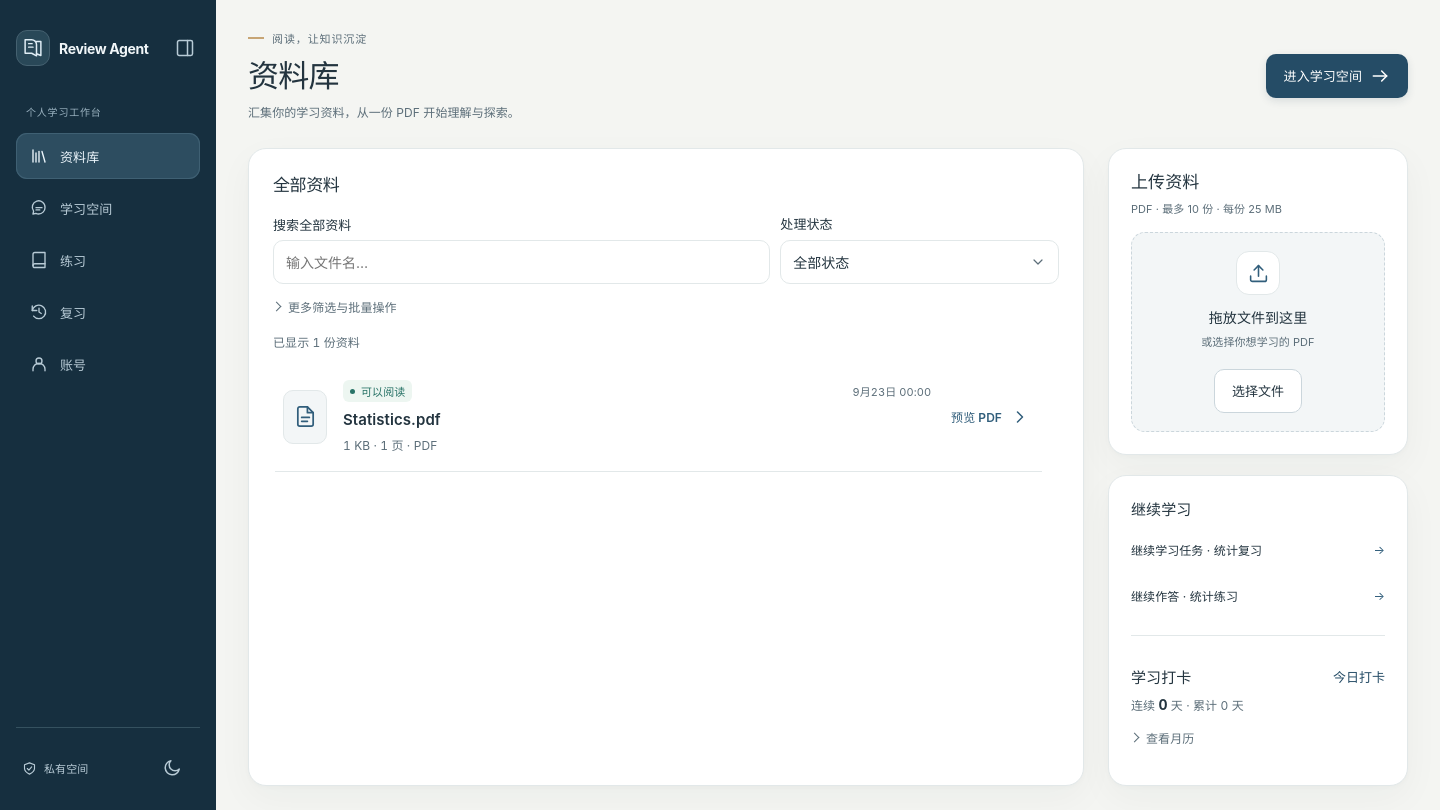
Test case: continue links use server identities and batch collection failure retains selected documents for retry
The image size is (1440, 810).
Click the heading "更多筛选与批量操作". click: (342, 308)
box: [288,300,397,315]
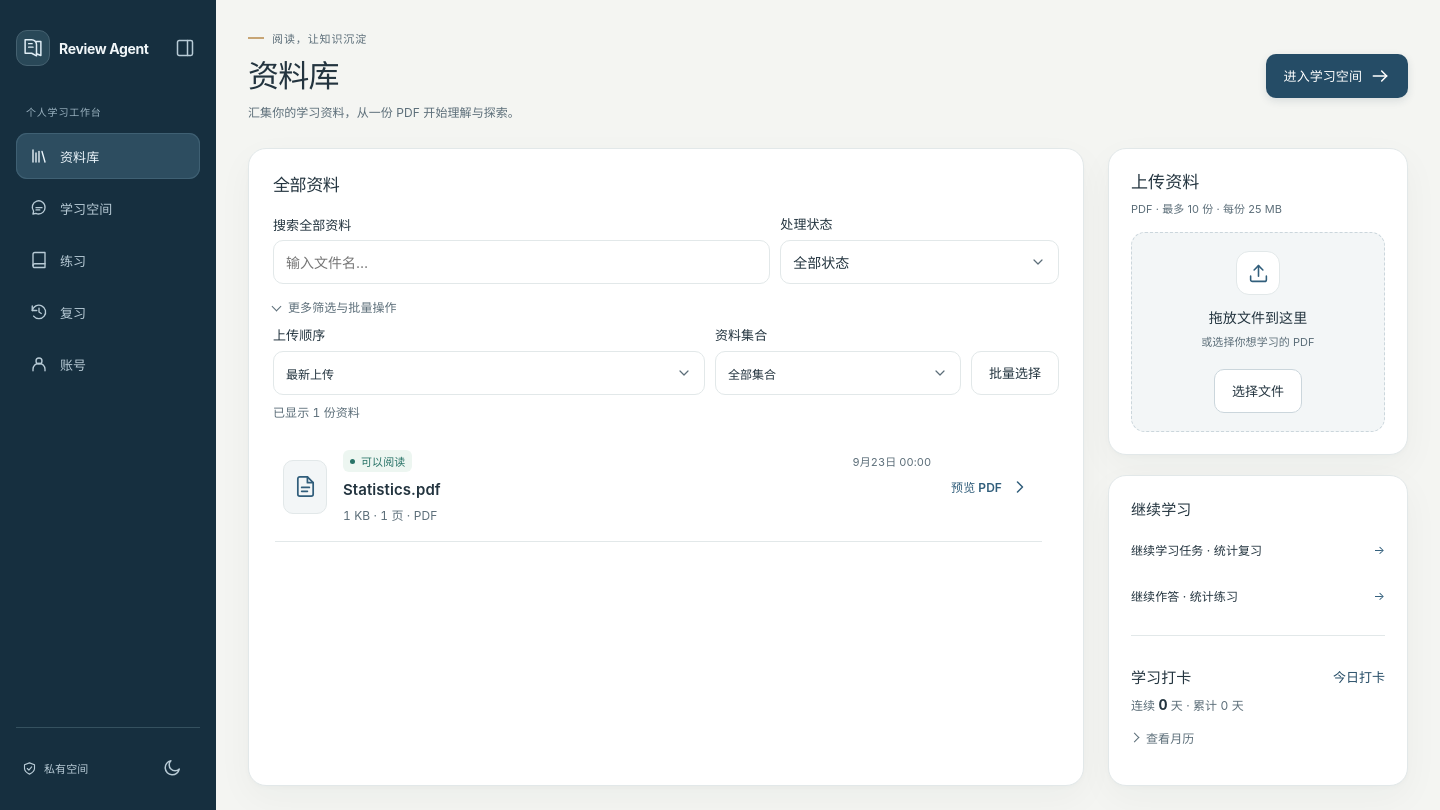
Click the button "批量选择". click: (1015, 373)
box: [971,351,1059,395]
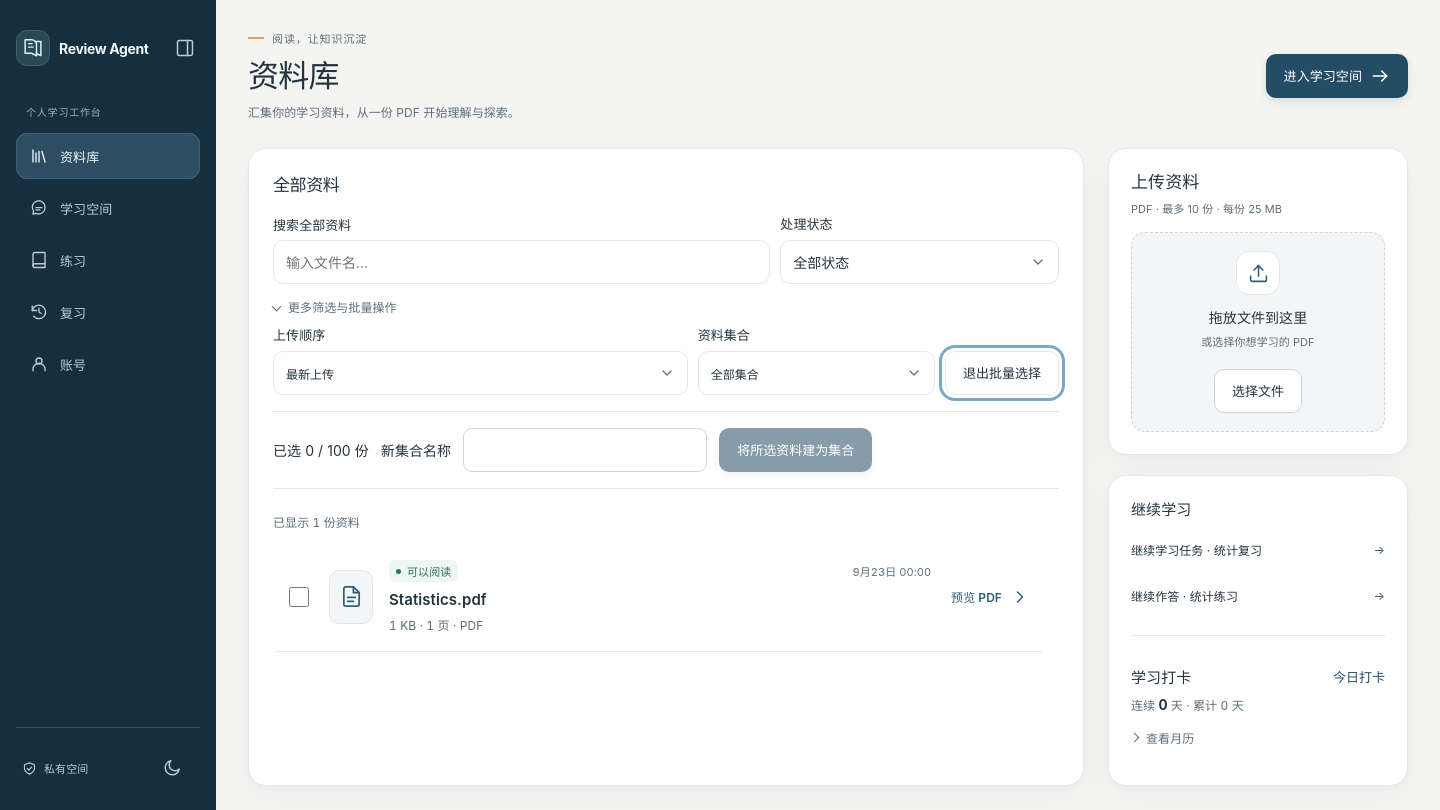
Click the checkbox named "选择 Statistics.pdf". click: (298, 597)
box: [288,587,308,607]
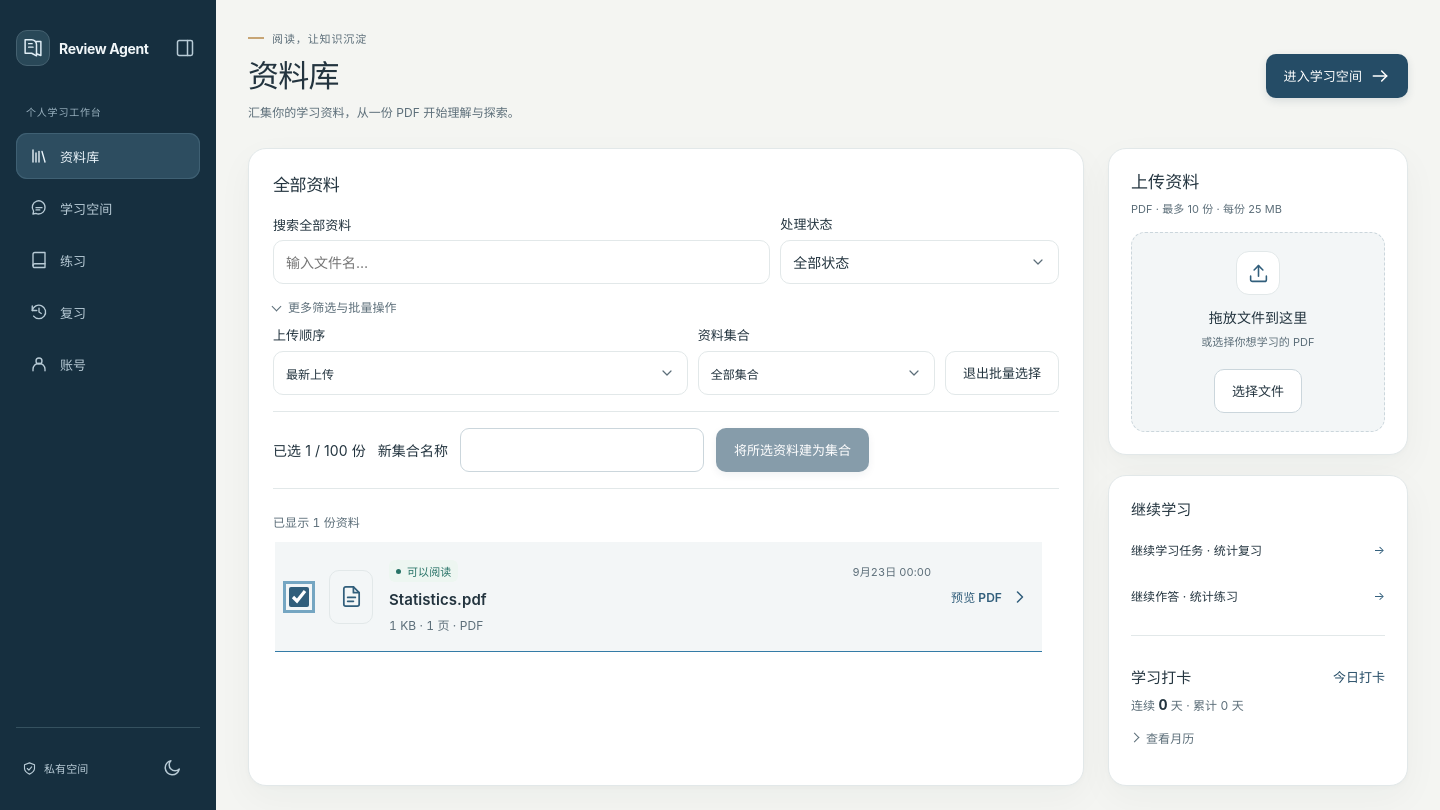
Type "复习资料" into the field labelled "新集合名称". click: (582, 450)
box: [460,428,704,472]
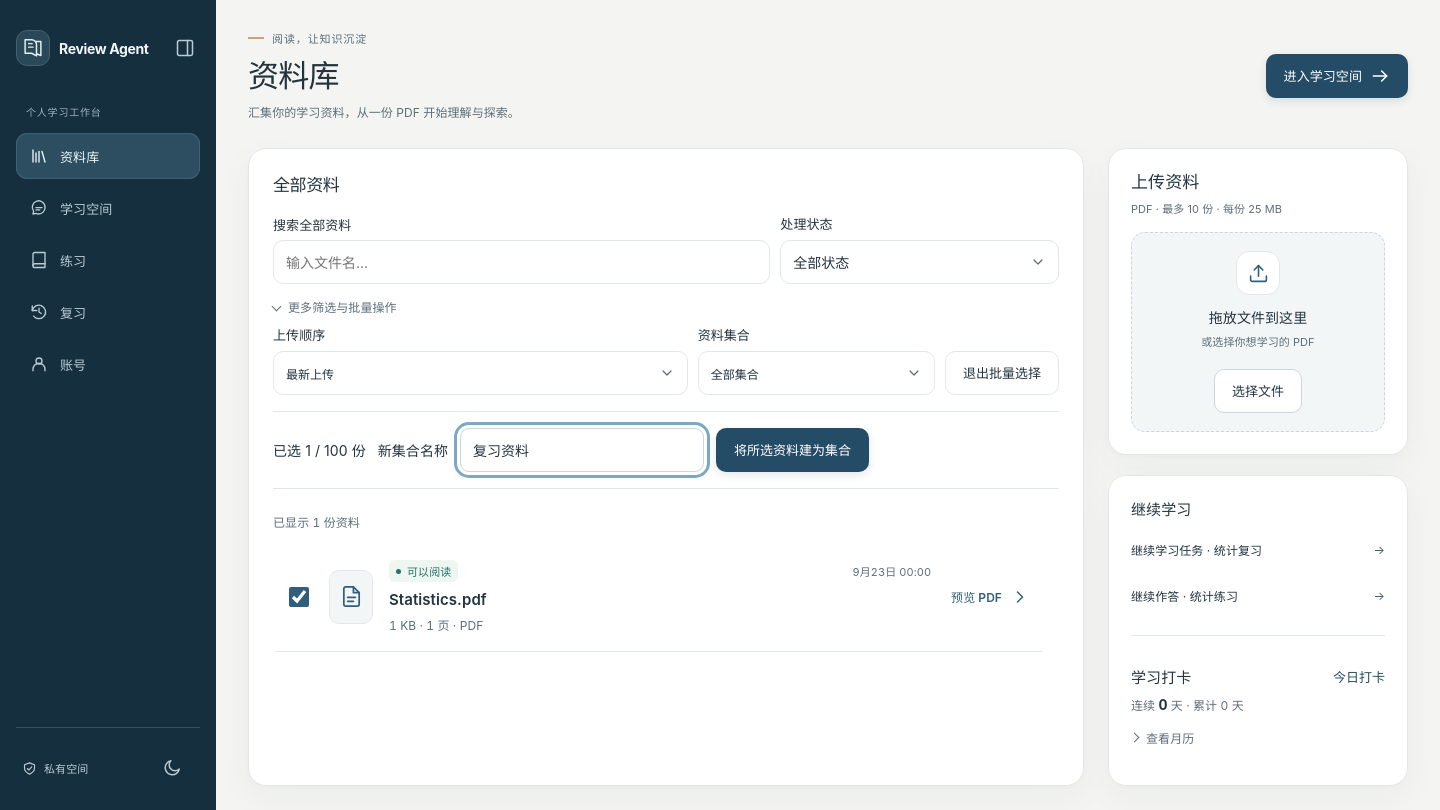
Click the button "将所选资料建为集合". click: (793, 450)
box: [716,428,869,472]
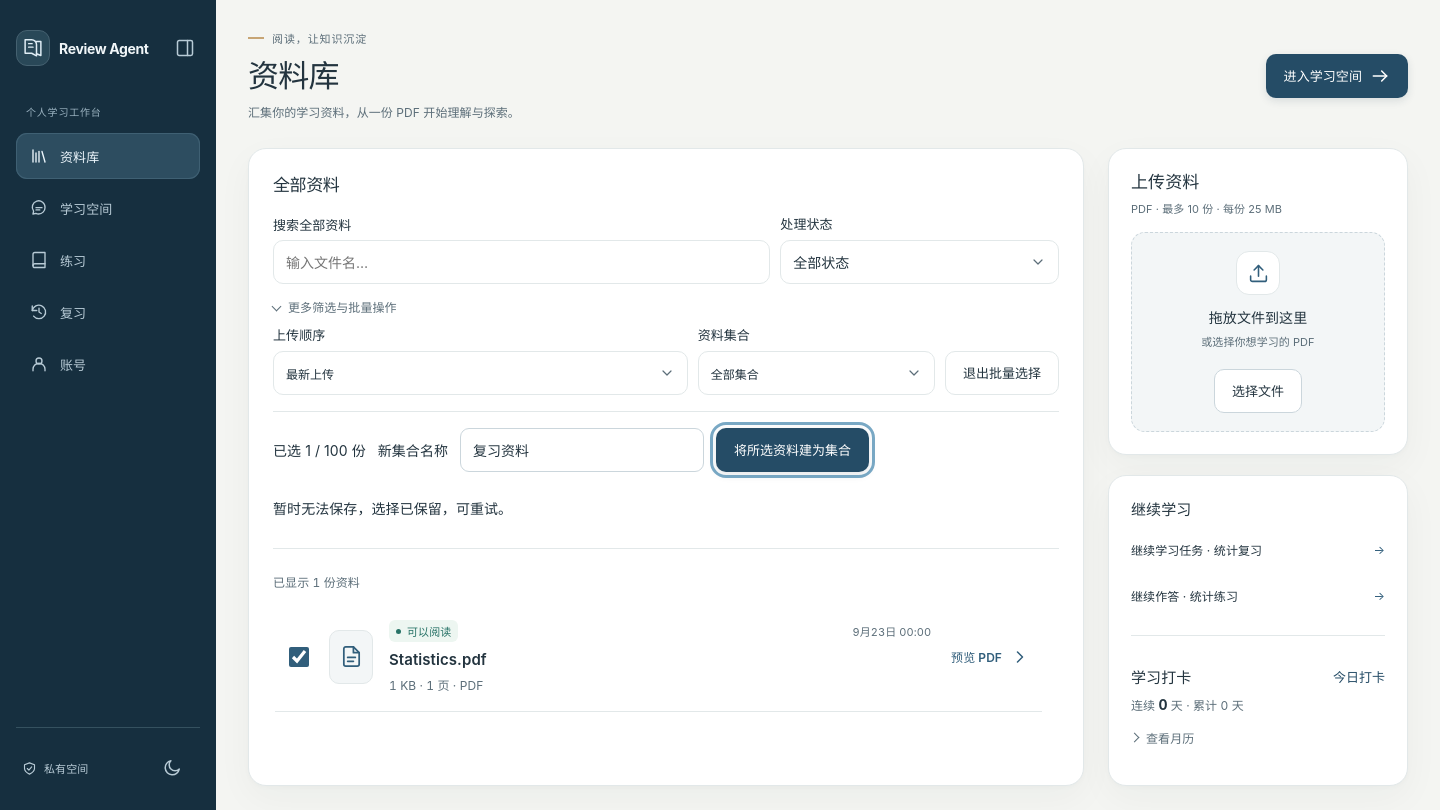
Check: the checkbox is checked, box [288,647,308,667]
Check: the text "暂时无法保存，选择已保留，可重试。" is shown, box [273,500,512,517]
Click the button "将所选资料建为集合". click: (793, 450)
box: [716,428,869,472]
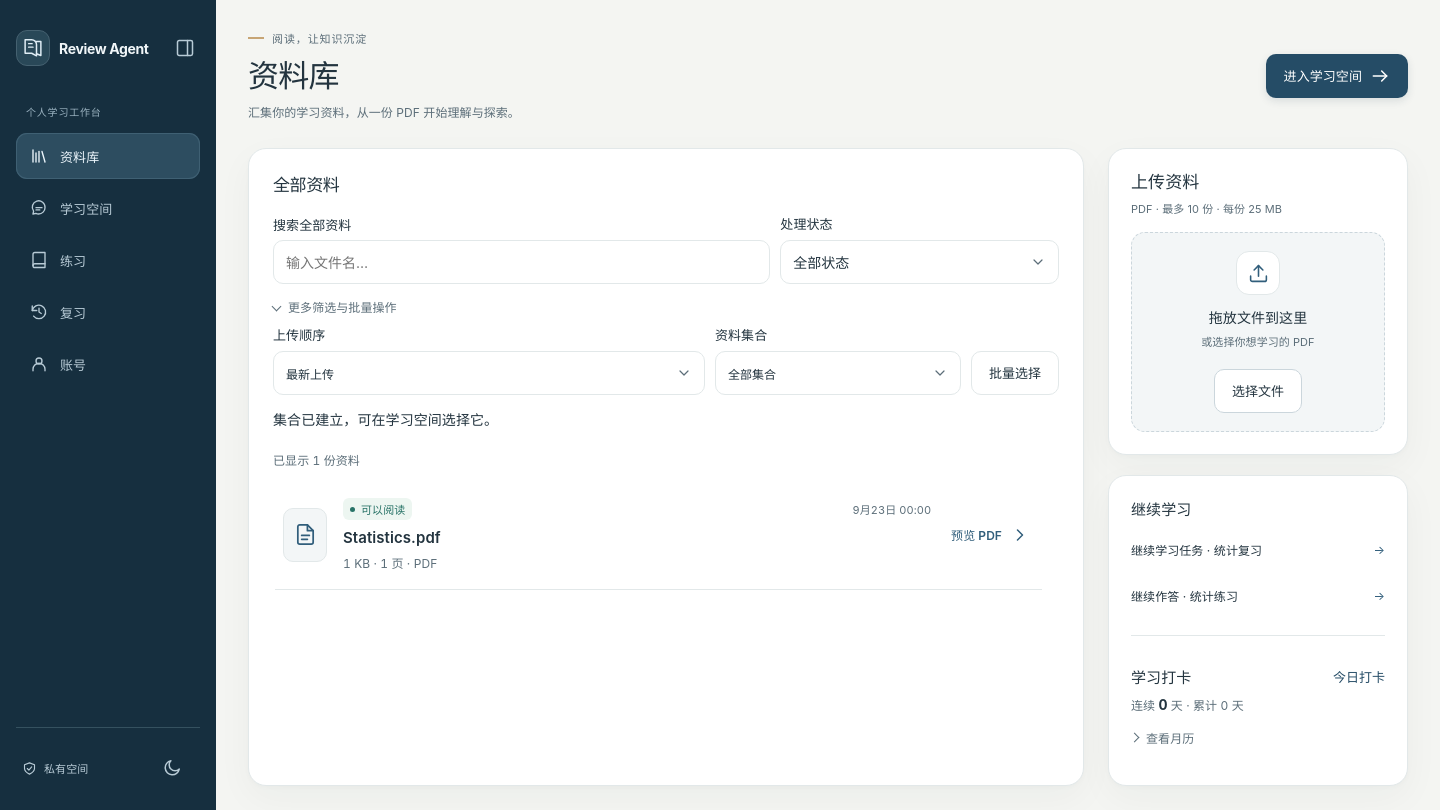
Check: the text "集合已建立，可在学习空间选择它。" is shown, box [273,411,498,428]
